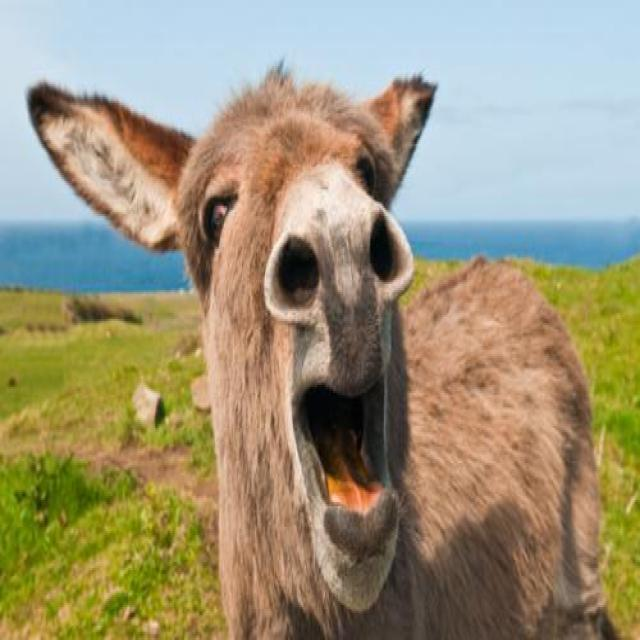Donkey: (28, 61, 609, 640)
